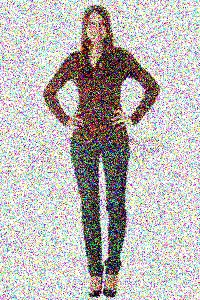arm: (121, 49, 162, 109), (41, 49, 79, 113)
chest: (78, 68, 120, 109)
face: (82, 7, 110, 49)
foot: (105, 274, 120, 299), (89, 277, 102, 295)
hand: (113, 110, 131, 127), (67, 113, 82, 129)
leg: (70, 134, 102, 273), (102, 140, 129, 274)
neck: (87, 47, 107, 68)
